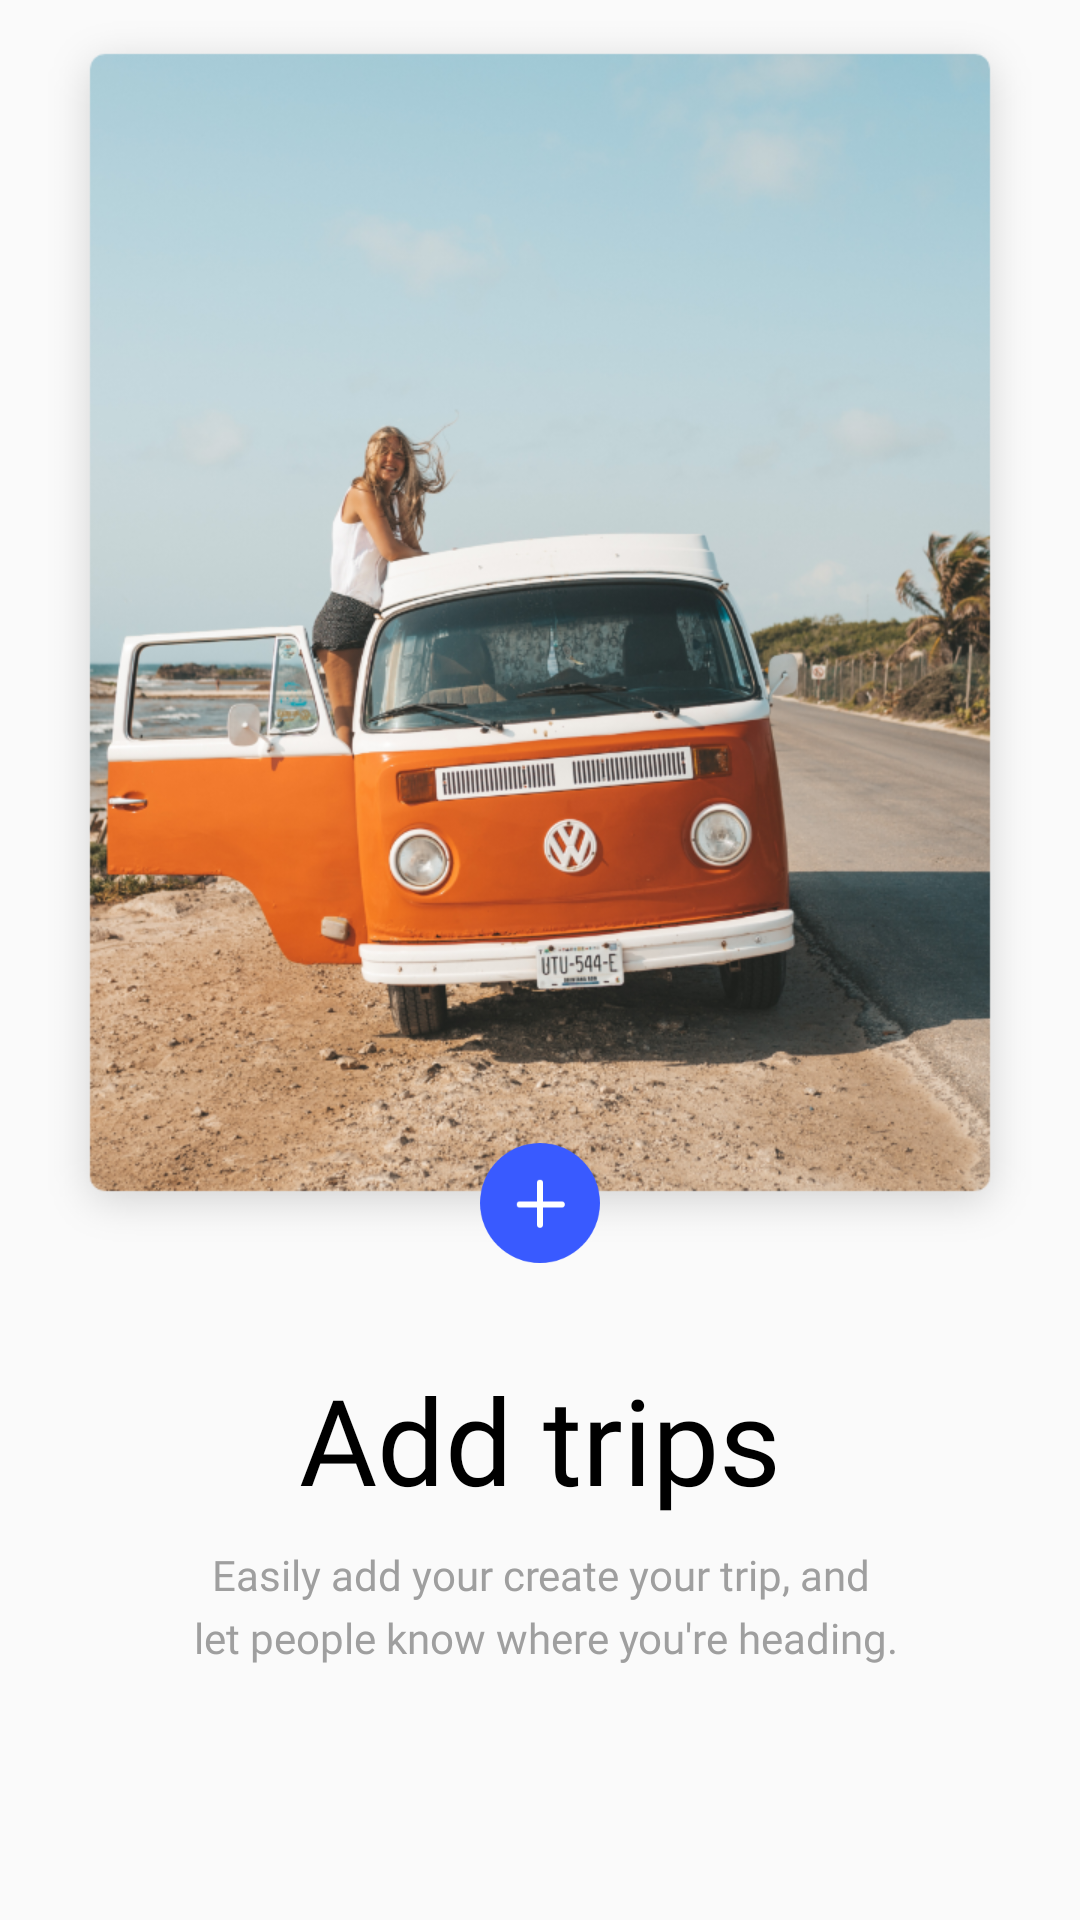

Icon click points for this 1080*1920 phone screenshot, format (x=x, y=y):
add guide: (x=540, y=1203)
